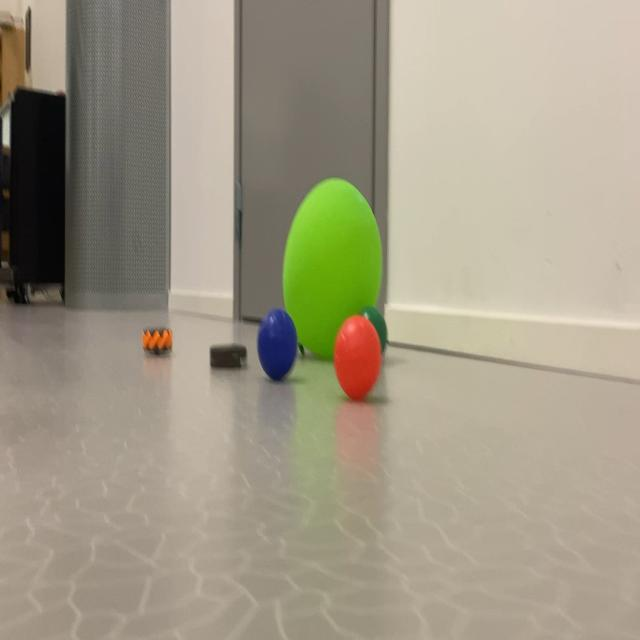7: (333, 313, 383, 415)
green ball: (249, 298, 302, 402)
red ball: (352, 296, 394, 354)
